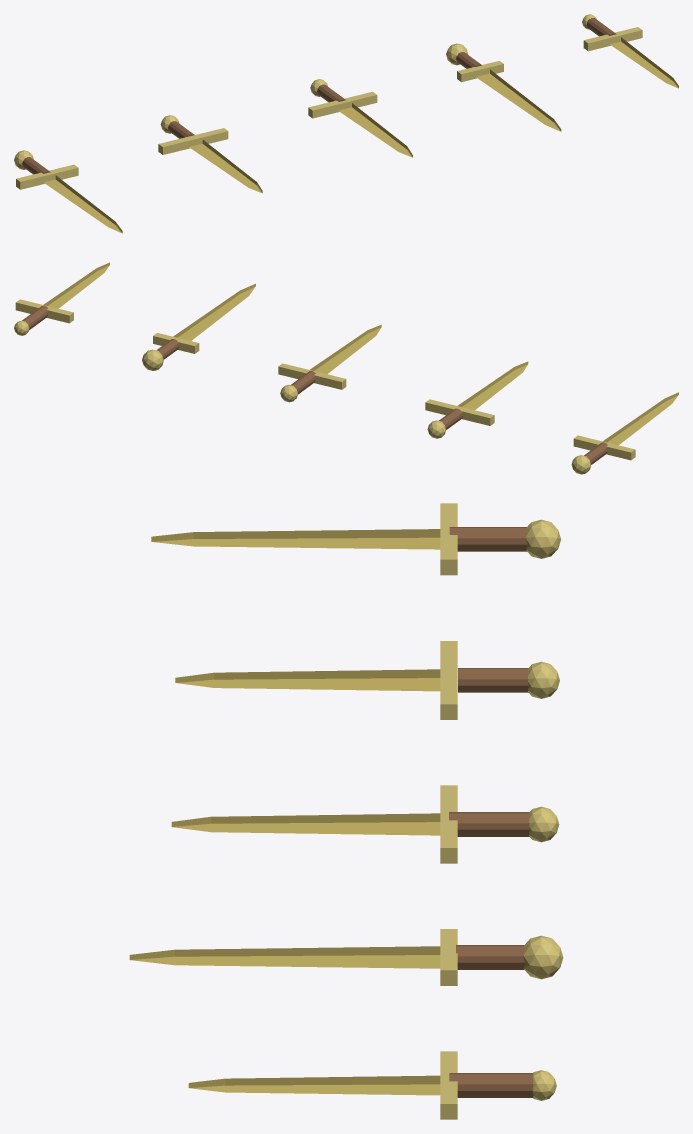
Rendered from 5_golden_swords.glb.
3 views of the same model, one above another, from view 1: azimuth 30°, elevation 25°; view 2: azimuth 150°, elevation 25°; view 3: azimuth 270°, elevation 25° (orthographic). The views are drawn at different scales.
Parts seen in each view (by area): view 1: sword_3_0, sword_2_0, sword_0_0, sword_1_0, sword_1_1, sword_2_1, sword_4_0, sword_0_1, sword_4_1, sword_3_1; view 2: sword_3_0, sword_2_0, sword_0_0, sword_1_0, sword_1_1, sword_4_0, sword_2_1, sword_0_1, sword_4_1, sword_3_1, sword_3_3; view 3: sword_3_0, sword_2_0, sword_0_0, sword_1_0, sword_4_0, sword_4_2, sword_2_2, sword_0_2, sword_1_2, sword_3_2, sword_1_1, sword_3_3 (+6 smaller).
Part boxes in pixels (x1,y1,x2,y2): sword_3_0: (476, 69, 561, 131); sword_2_0: (338, 103, 412, 157); sword_0_0: (43, 175, 122, 233); sword_1_0: (189, 139, 262, 193); sword_1_1: (158, 128, 228, 154); sword_2_1: (308, 91, 377, 118); sword_4_0: (610, 37, 678, 88); sword_0_1: (16, 164, 78, 189); sword_4_1: (583, 27, 642, 51); sword_3_1: (457, 61, 503, 82); sword_3_0: (173, 283, 255, 340); sword_2_0: (310, 324, 381, 374); sword_0_0: (603, 392, 678, 445); sword_1_0: (457, 361, 528, 410); sword_1_1: (425, 399, 494, 425); sword_4_0: (43, 262, 109, 308); sword_2_1: (278, 363, 346, 389); sword_0_1: (573, 435, 635, 460); sword_4_1: (15, 299, 73, 323); sword_3_1: (153, 333, 199, 353); sword_3_3: (142, 349, 163, 370); sword_3_0: (129, 946, 440, 968); sword_2_0: (171, 813, 440, 835); sword_0_0: (151, 529, 440, 549); sword_1_0: (175, 669, 440, 691); sword_4_0: (188, 1075, 440, 1095); sword_4_2: (449, 1073, 533, 1097); sword_2_2: (449, 812, 529, 836); sword_0_2: (449, 527, 527, 551); sword_1_2: (458, 668, 528, 692); sword_3_2: (456, 945, 524, 969); sword_1_1: (440, 641, 457, 719); sword_3_3: (523, 935, 563, 979).
Size of the model in its own units: 14.78 by 0.4579 by 4.51.
